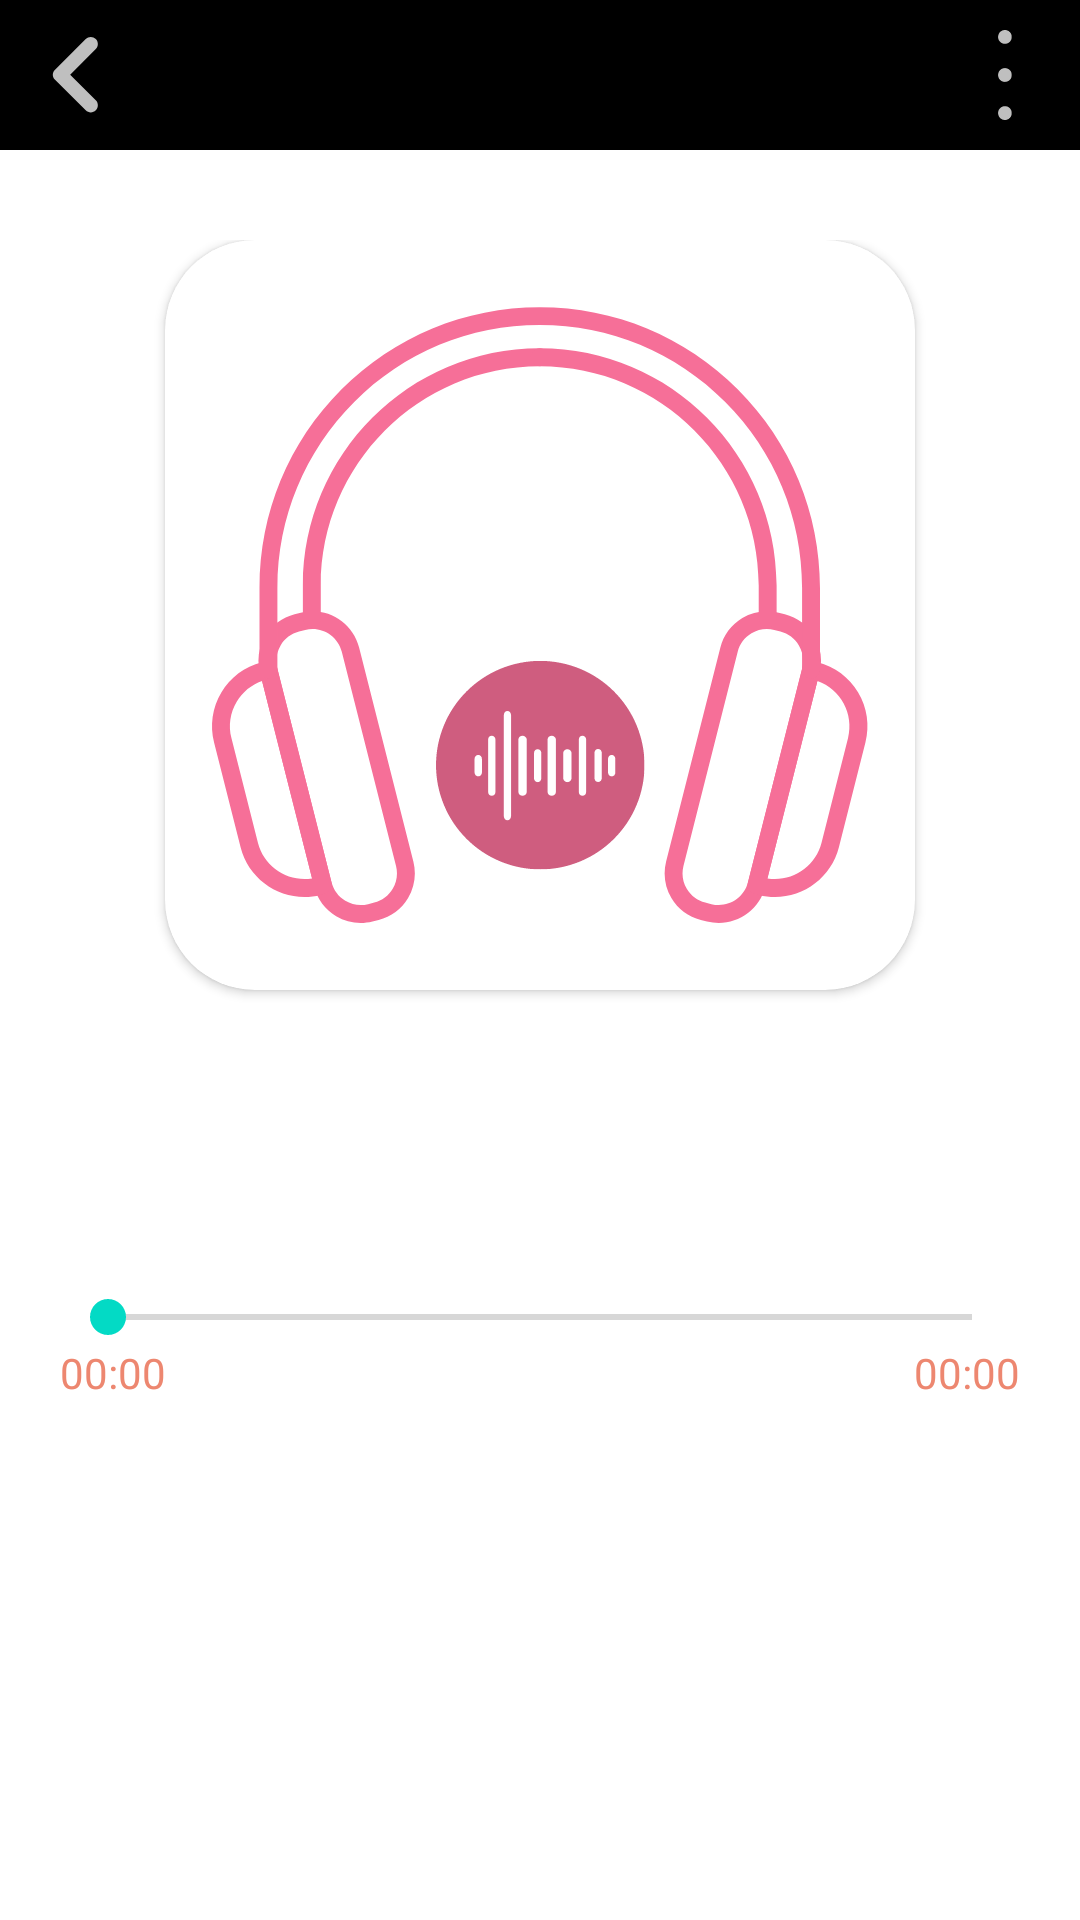

Point at icon controls on the screen. Image size 1080x1920, points as [x,y].
back: [75,75]
